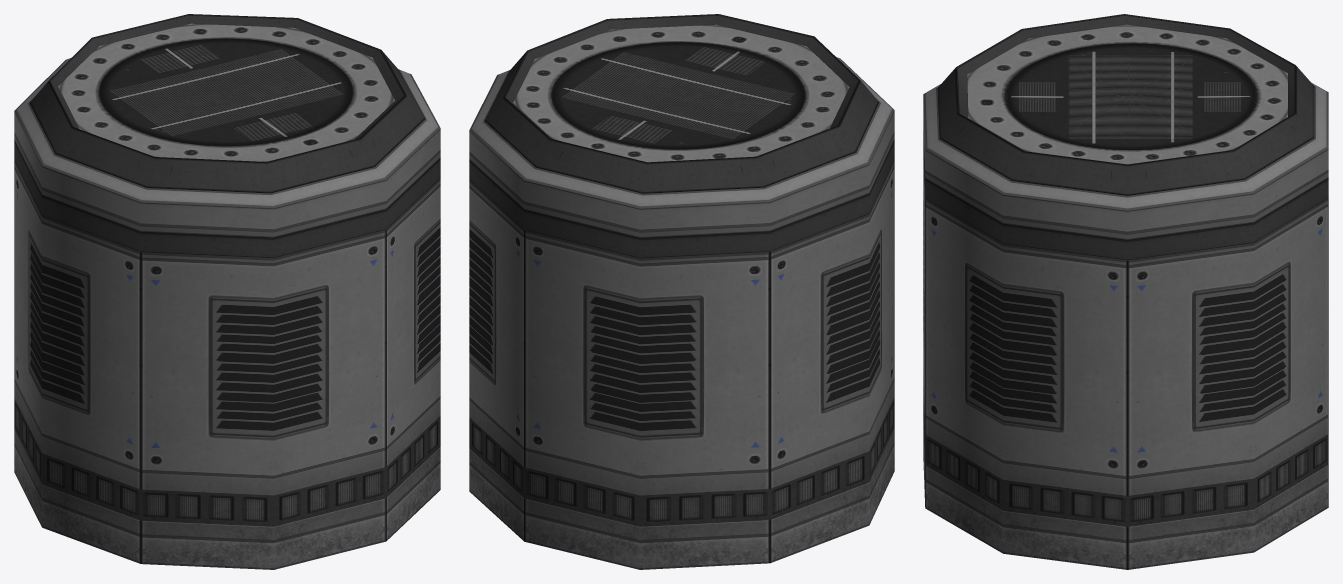
Rendered from p6_barrel_boat_lod3.glb.
3 renders of one model, left to right at view 1: azimuth 30°, elevation 25°; view 2: azimuth 150°, elevation 25°; view 3: azimuth 270°, elevation 25°, orthographic.
Parts seen in each view (by area): view 1: surf0; view 2: surf0; view 3: surf0.
Part boxes in pixels (x1,y1,x2,y2): surf0: (14, 14, 440, 569); surf0: (469, 14, 894, 569); surf0: (923, 14, 1328, 569).
Size of the model in its own units: 47 by 47.65 by 44.81.
